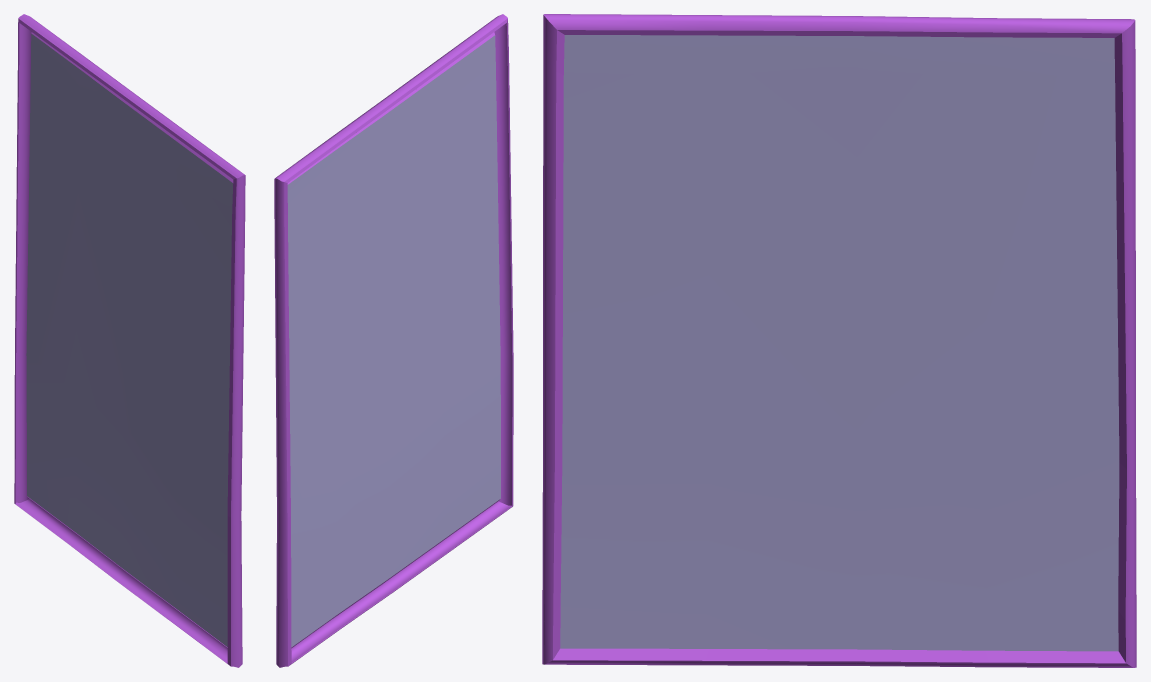
The model's file is Friday_BathroomMirror.fbx.
3 renders of one model, left to right at view 1: azimuth 30°, elevation 25°; view 2: azimuth 150°, elevation 25°; view 3: azimuth 270°, elevation 25°, orthographic. The views are drawn at different scales.
Visible parts, largest first — view 1: Mirror; view 2: Mirror; view 3: Mirror.
Part boxes in pixels (x1,y1,x2,y2): Mirror: [14, 14, 245, 667]; Mirror: [274, 14, 513, 667]; Mirror: [542, 14, 1136, 667].
Bounding box in the file's own units: 3.04 × 67.76 × 55.93.
